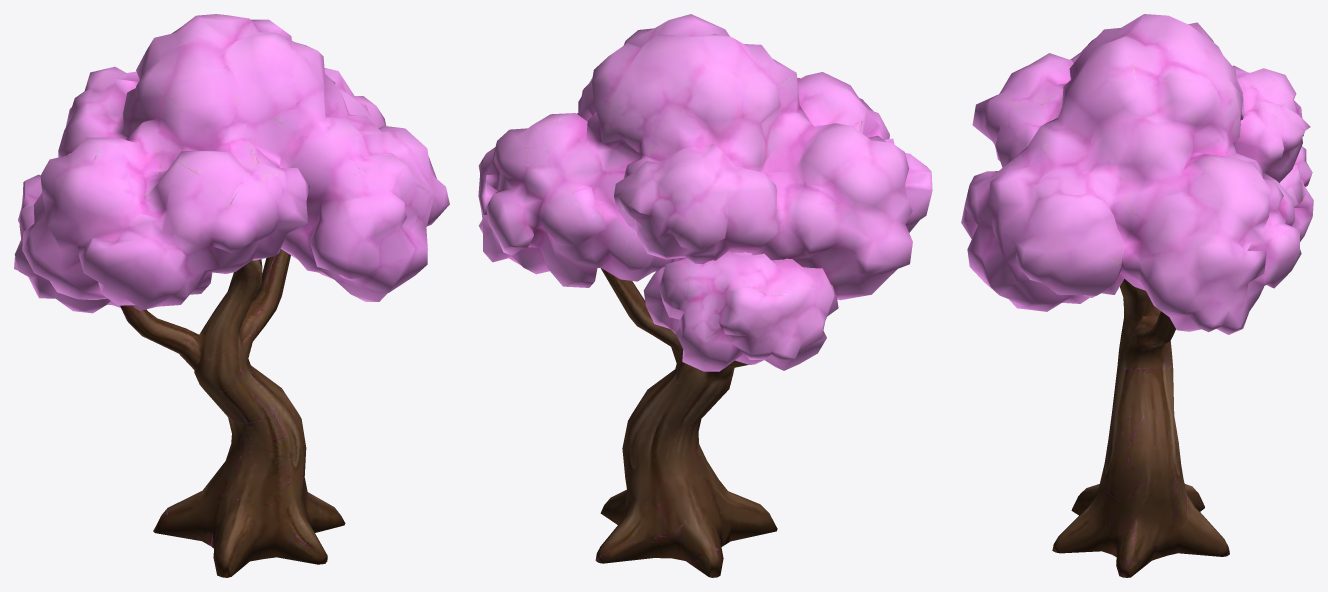
File: blossom.glb
The picture shows the model from 3 angles, left to right: view 1: azimuth 30°, elevation 25°; view 2: azimuth 150°, elevation 25°; view 3: azimuth 270°, elevation 25°; orthographic projection. The views are drawn at different scales.
Size of the model in its own units: 0.7529 by 0.9536 by 0.6045.
Materials: 1 (1 with a texture image).
